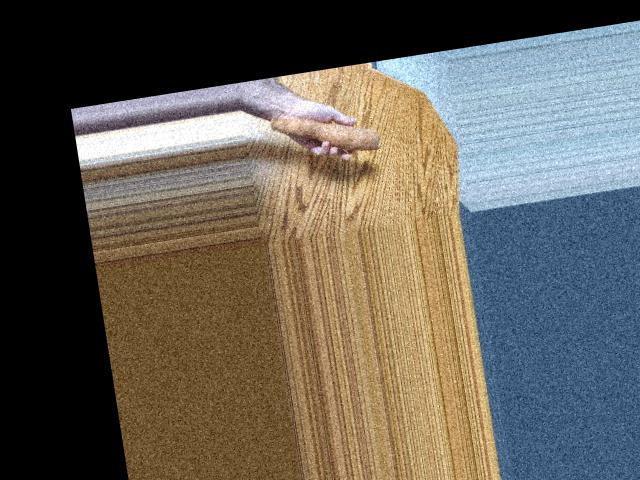sweet_potato: (271, 99, 381, 167)
